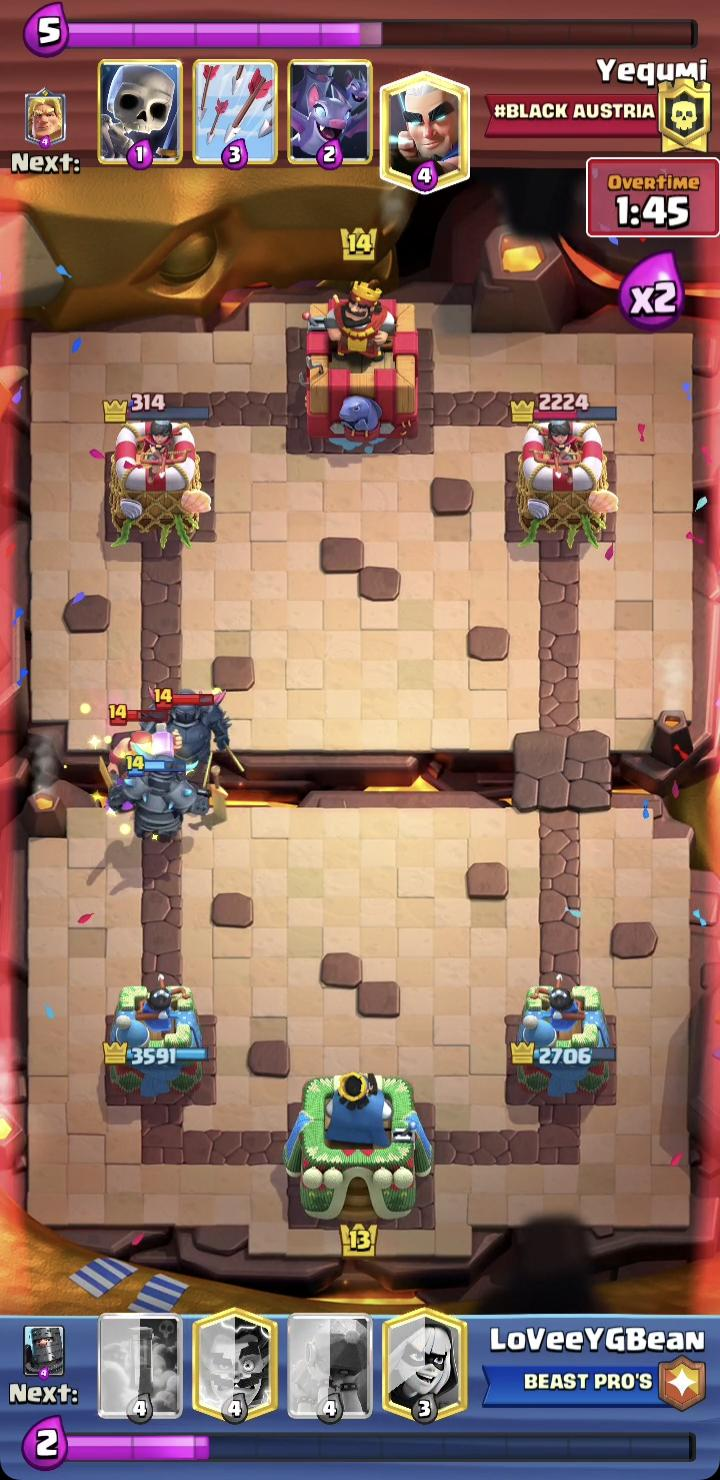ally_pekka: (99, 749, 213, 843)
enemy_lumberjack: (107, 702, 182, 779)
enemy_pekka: (145, 688, 246, 772)
